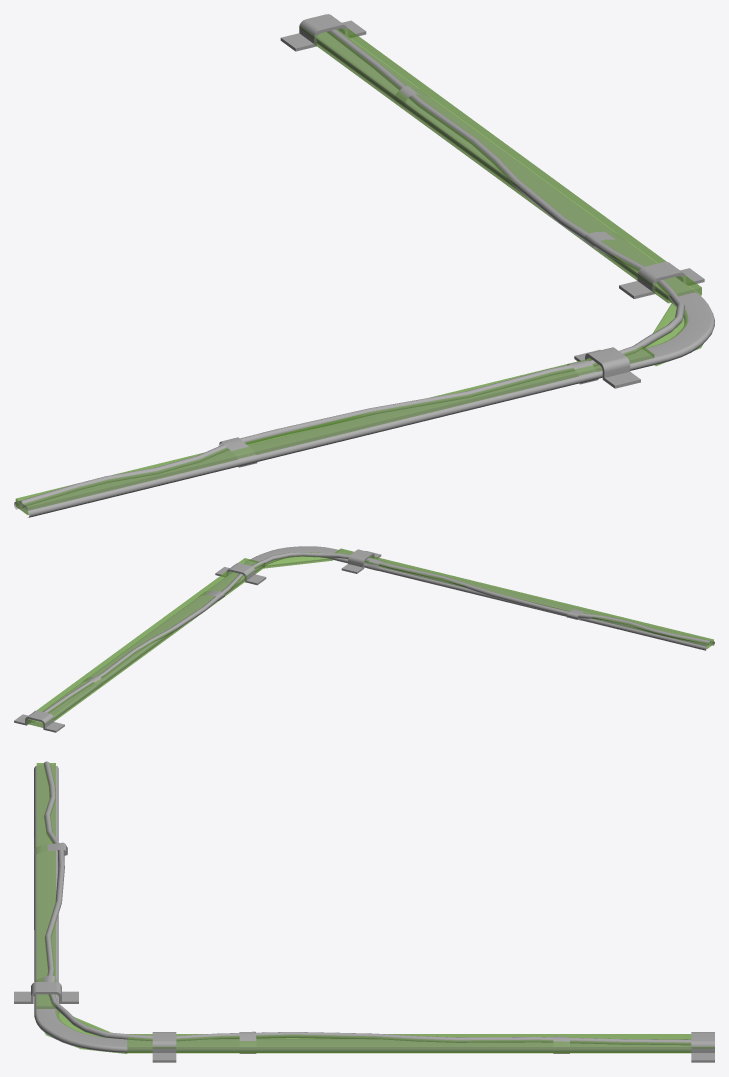
The model's file is p_CablingCorner_01_a.fbx.
The picture shows the model from 3 angles, top to bottom: view 1: azimuth 30°, elevation 25°; view 2: azimuth 150°, elevation 25°; view 3: azimuth 270°, elevation 25°; orthographic projection. The views are drawn at different scales.
Visible parts, largest first — view 1: p_CablingCorner_01_a_LOD0, p_CablingCorner_01_a_col_01, p_CablingCorner_01_a_col_02; view 2: p_CablingCorner_01_a_LOD0, p_CablingCorner_01_a_col_01, p_CablingCorner_01_a_col_02, p_CablingCorner_01_a_col_03; view 3: p_CablingCorner_01_a_LOD0, p_CablingCorner_01_a_col_01, p_CablingCorner_01_a_col_02.
Part boxes in pixels (left/top/right/bottom): p_CablingCorner_01_a_LOD0: left=14, top=14, right=714, bottom=517; p_CablingCorner_01_a_col_01: left=299, top=25, right=701, bottom=303; p_CablingCorner_01_a_col_02: left=15, top=345, right=654, bottom=514; p_CablingCorner_01_a_LOD0: left=14, top=546, right=714, bottom=732; p_CablingCorner_01_a_col_01: left=26, top=558, right=264, bottom=727; p_CablingCorner_01_a_col_02: left=334, top=548, right=713, bottom=649; p_CablingCorner_01_a_col_03: left=263, top=552, right=332, bottom=568; p_CablingCorner_01_a_LOD0: left=14, top=761, right=714, bottom=1062; p_CablingCorner_01_a_col_01: left=127, top=1034, right=714, bottom=1053; p_CablingCorner_01_a_col_02: left=36, top=763, right=55, bottom=1008.
Size of what is drawn, in the model's own units: 105 by 2.05 by 107.
